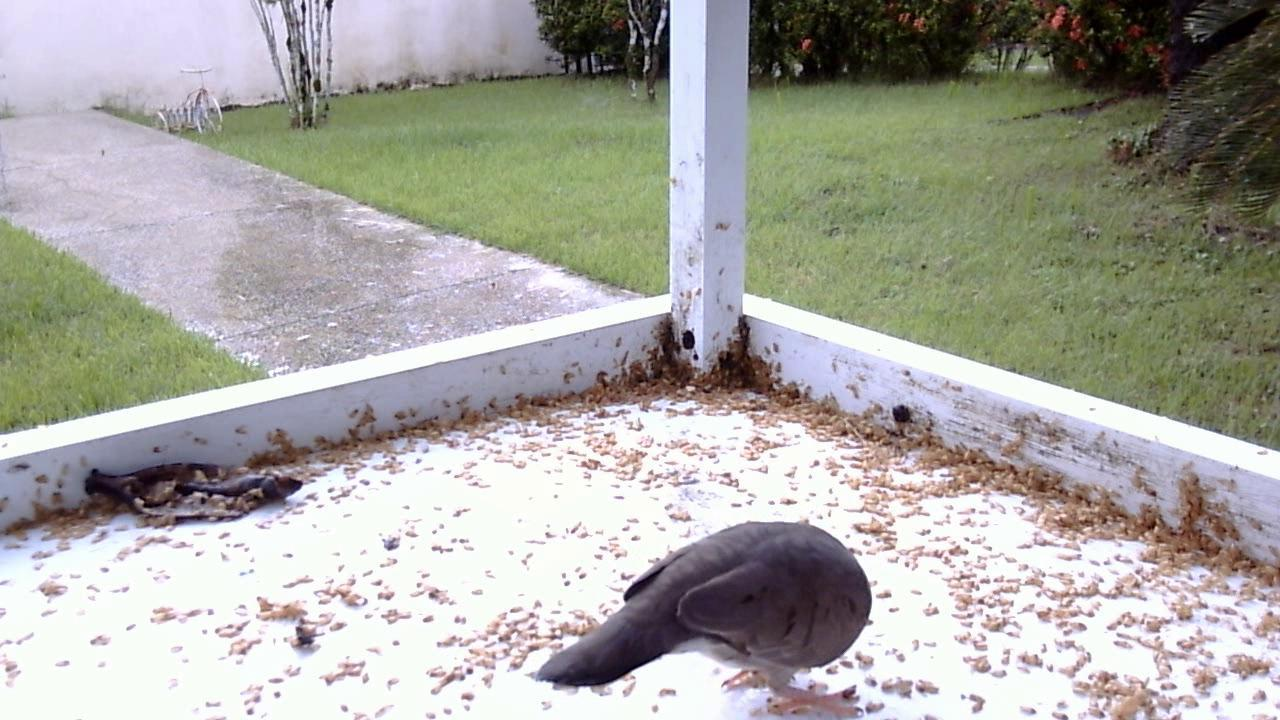rolinha: (521, 513, 884, 701)
